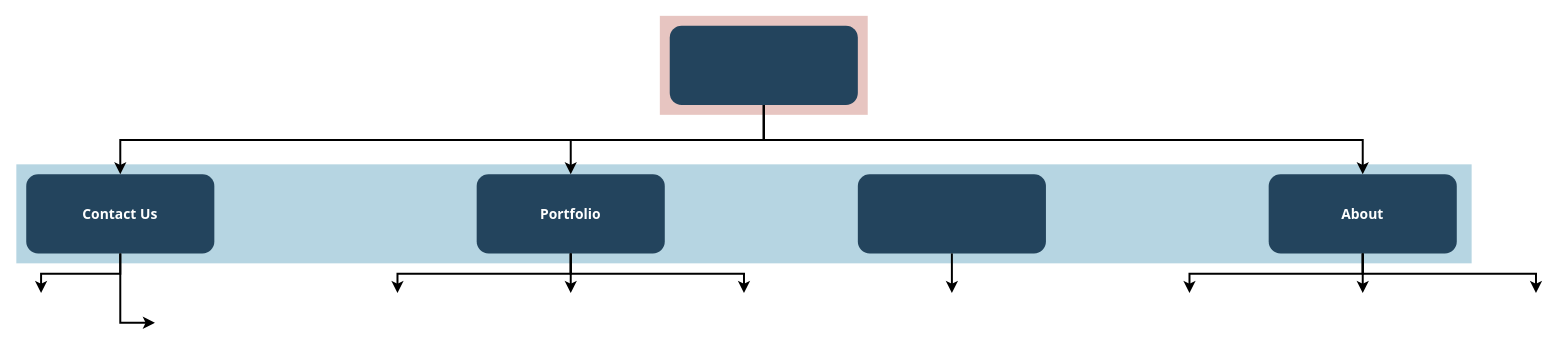
The diagram is 1556 pixels wide and 343 high, and some of its shapes have lost their labels. The shapes that lost their labels are listed below. From the top down, each one's centre as x and y in pixels, then its label:
At point 763,64: "Home".
At point 951,213: "Cryptocurrencies".
